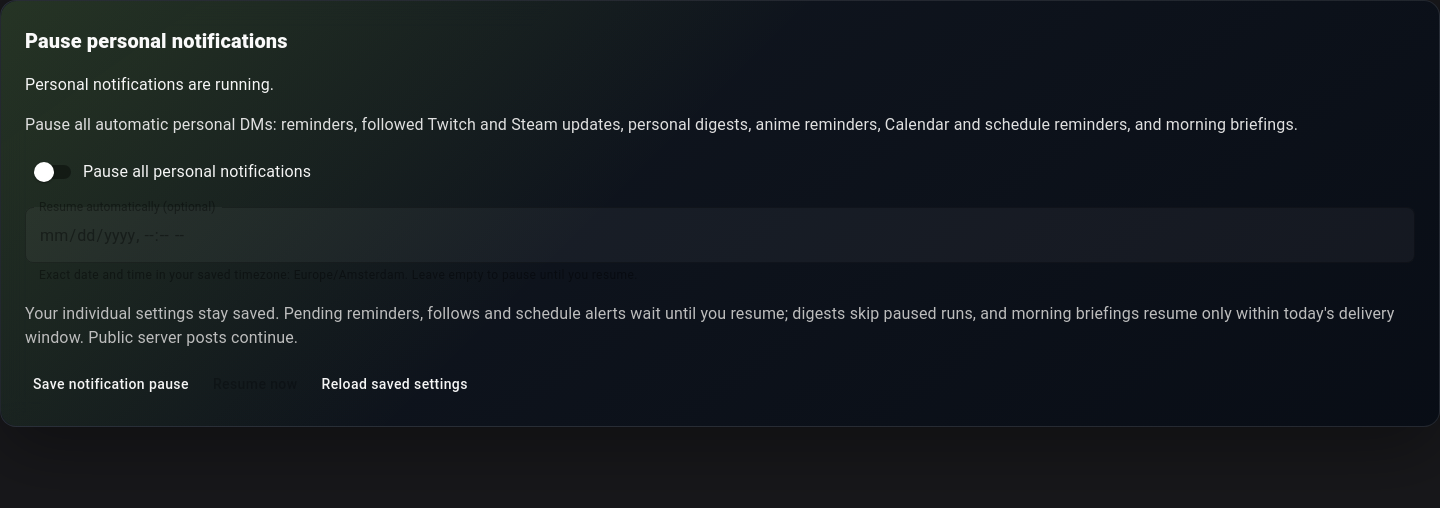
personal notification pause controls › defaults off and explicitly saves indefinite pause and resume in en
Click the switch labelled "Pause all personal notifications" at (173, 172), box [34,162,311,182]
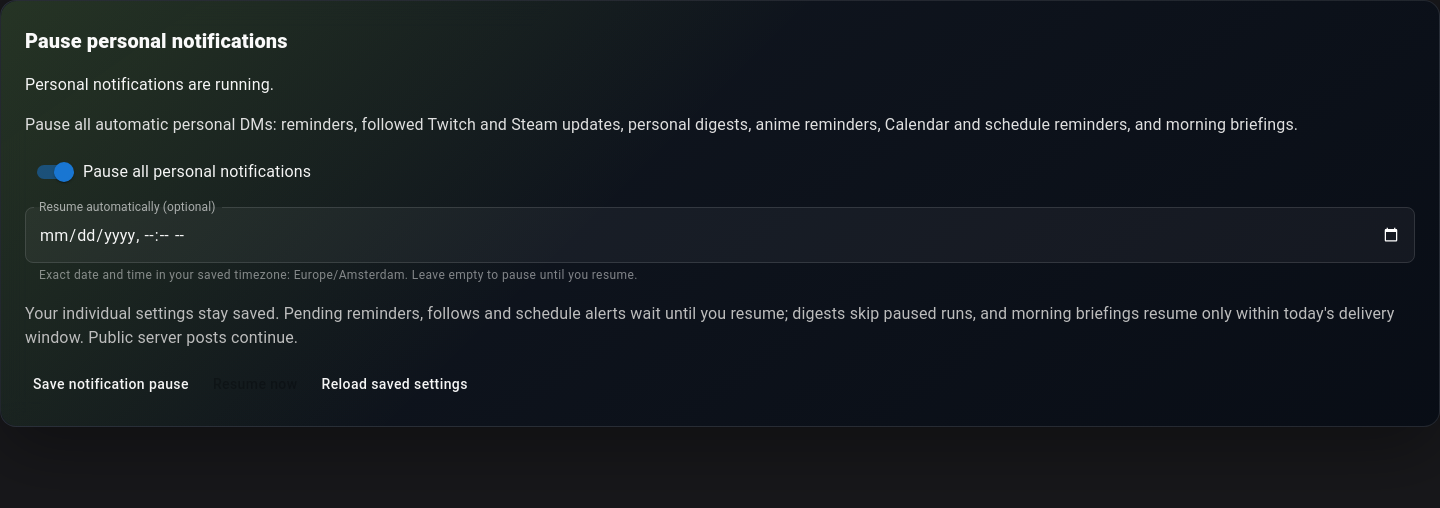
Click the button "Save notification pause" at (111, 384), box [25,366,197,402]
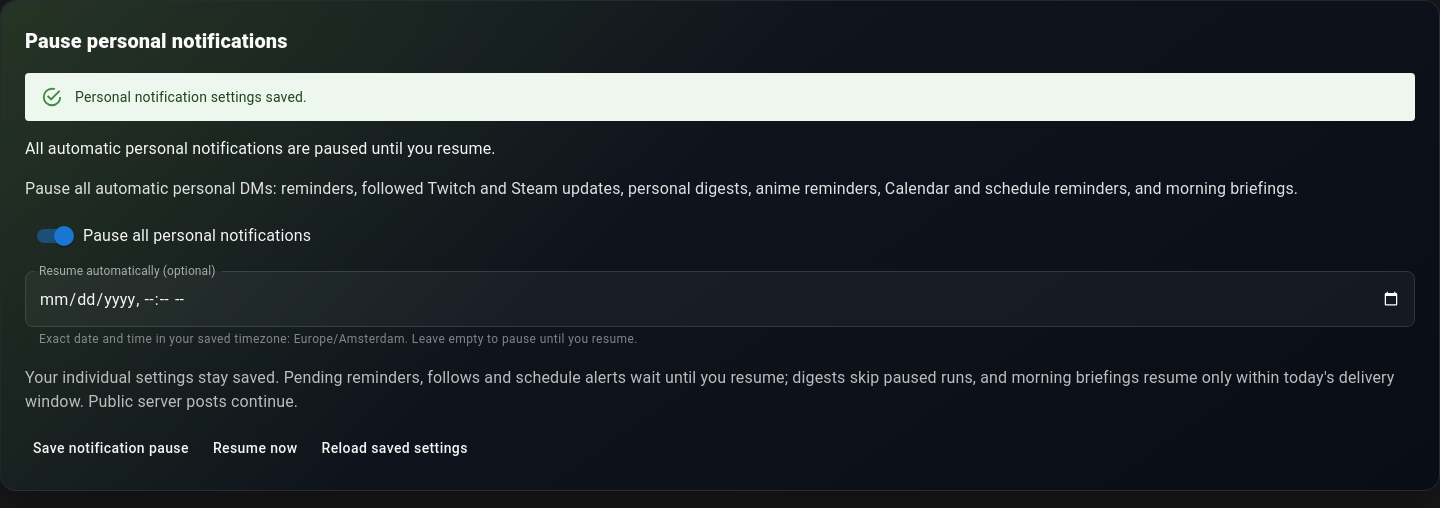
Expected: the text "All automatic personal notifications are paused until you resume." is shown, [25,139,496,158]
Click the button "Resume now" at (255, 448), box [205,430,306,466]
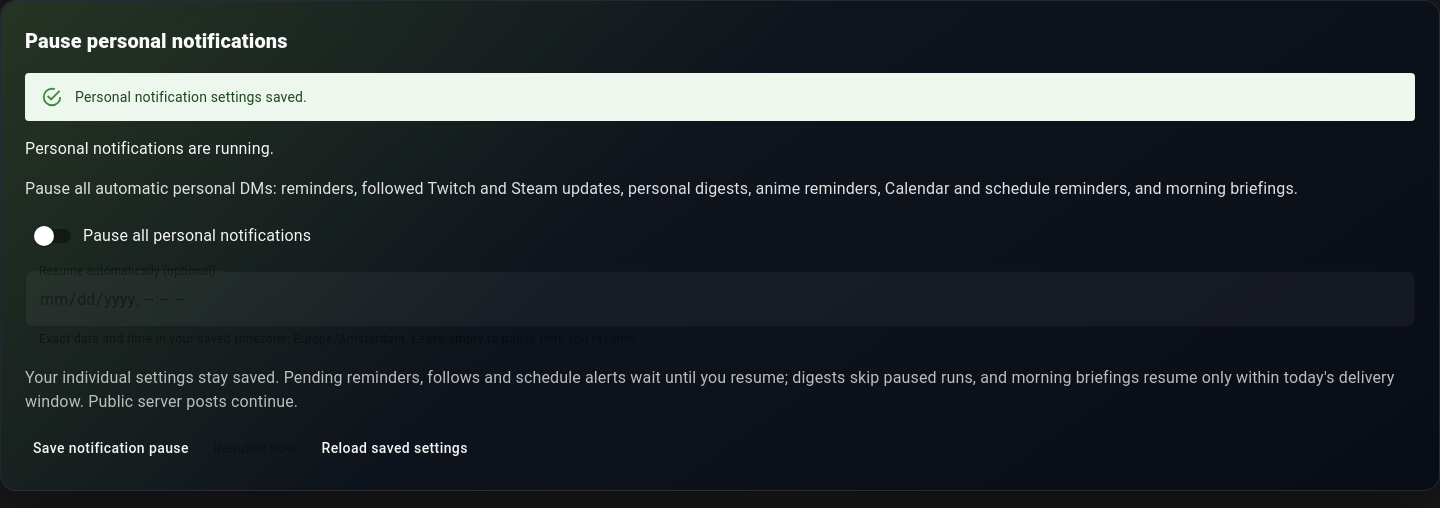
Expected: the text "Personal notifications are running." is shown, [25,139,274,158]
